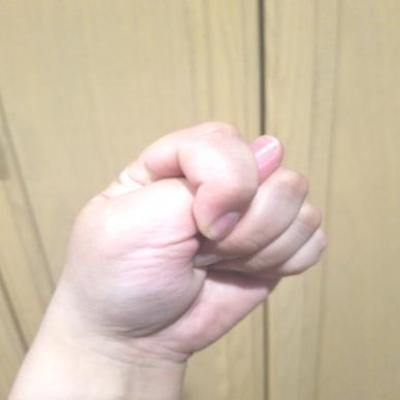hand: (38, 113, 338, 369)
